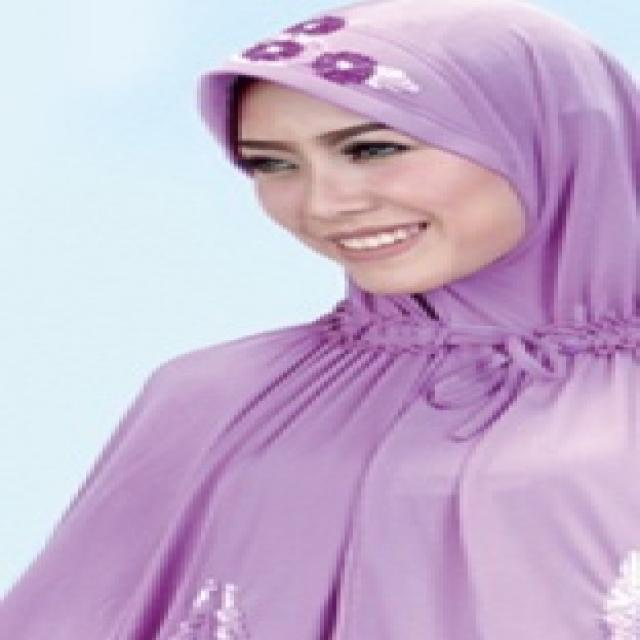head: (187, 3, 636, 310)
